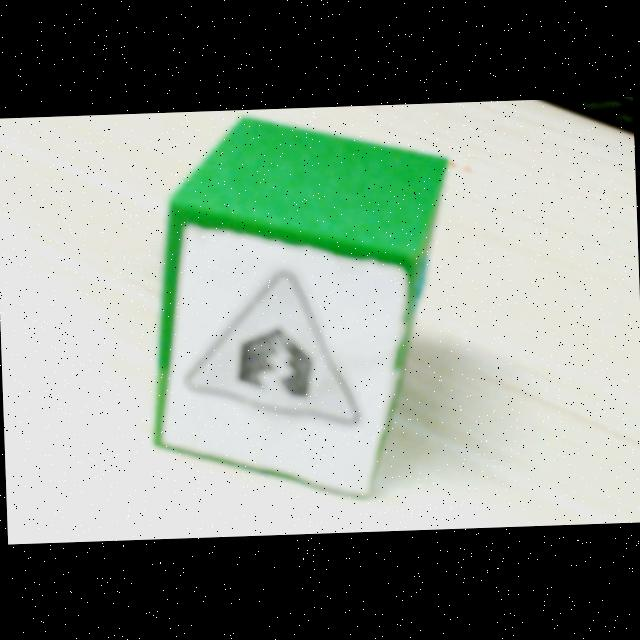Earthquake: (184, 270, 363, 430)
